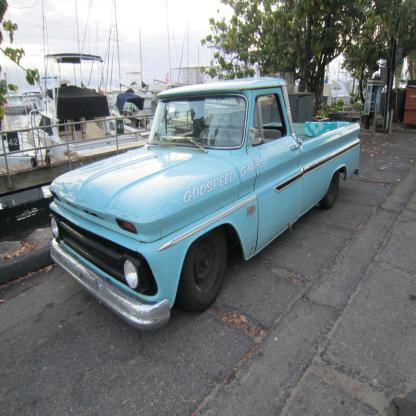Truck: (45, 76, 362, 333)
